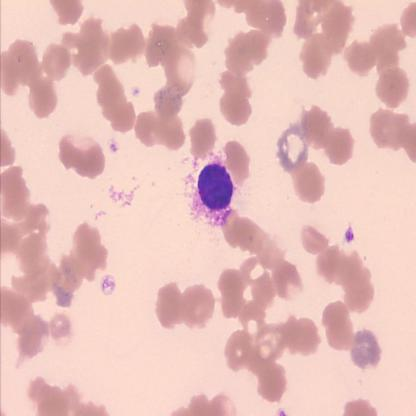Basophil: (193, 160, 238, 217)
